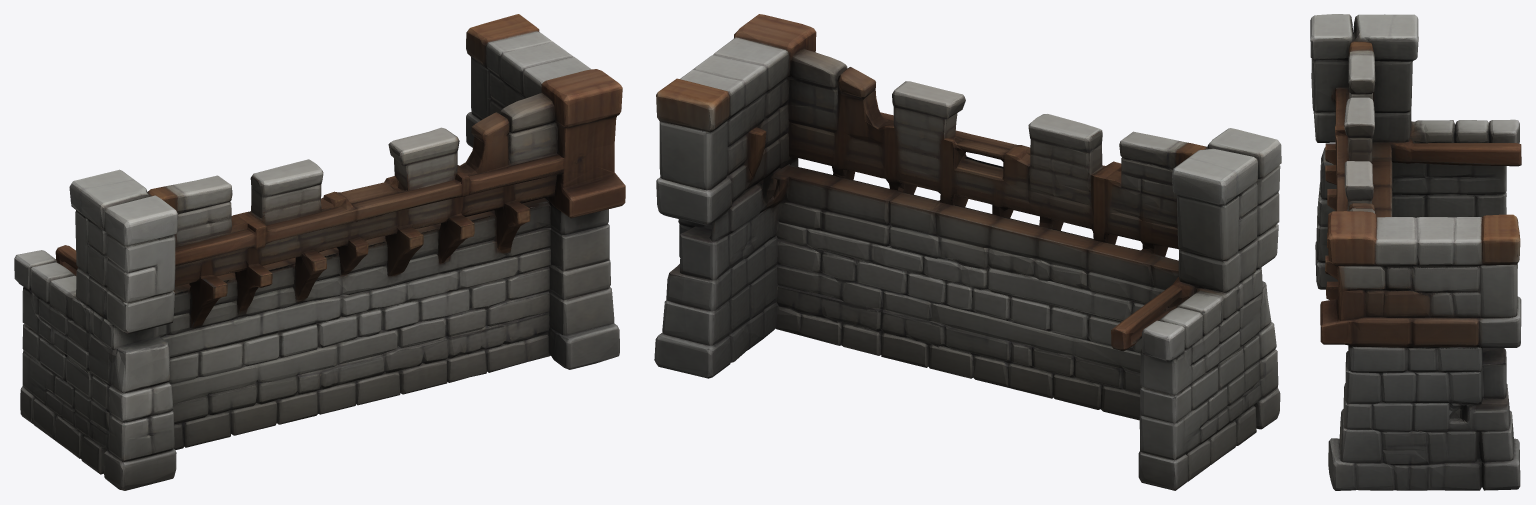
Rendered from wall.glb.
3 renders of one model, left to right at view 1: azimuth 30°, elevation 25°; view 2: azimuth 150°, elevation 25°; view 3: azimuth 270°, elevation 25°, orthographic. The views are drawn at different scales.
Visible parts, largest first — view 1: geometry_0; view 2: geometry_0; view 3: geometry_0.
Boxes of the visible parts, x1,y1,x2,y2 form: geometry_0: (14,14,625,490); geometry_0: (654,14,1281,490); geometry_0: (1310,14,1521,490).
Size of the model in its own units: 0.9986 by 0.5249 by 0.3854.
Materials: 1 (1 with a texture image).
